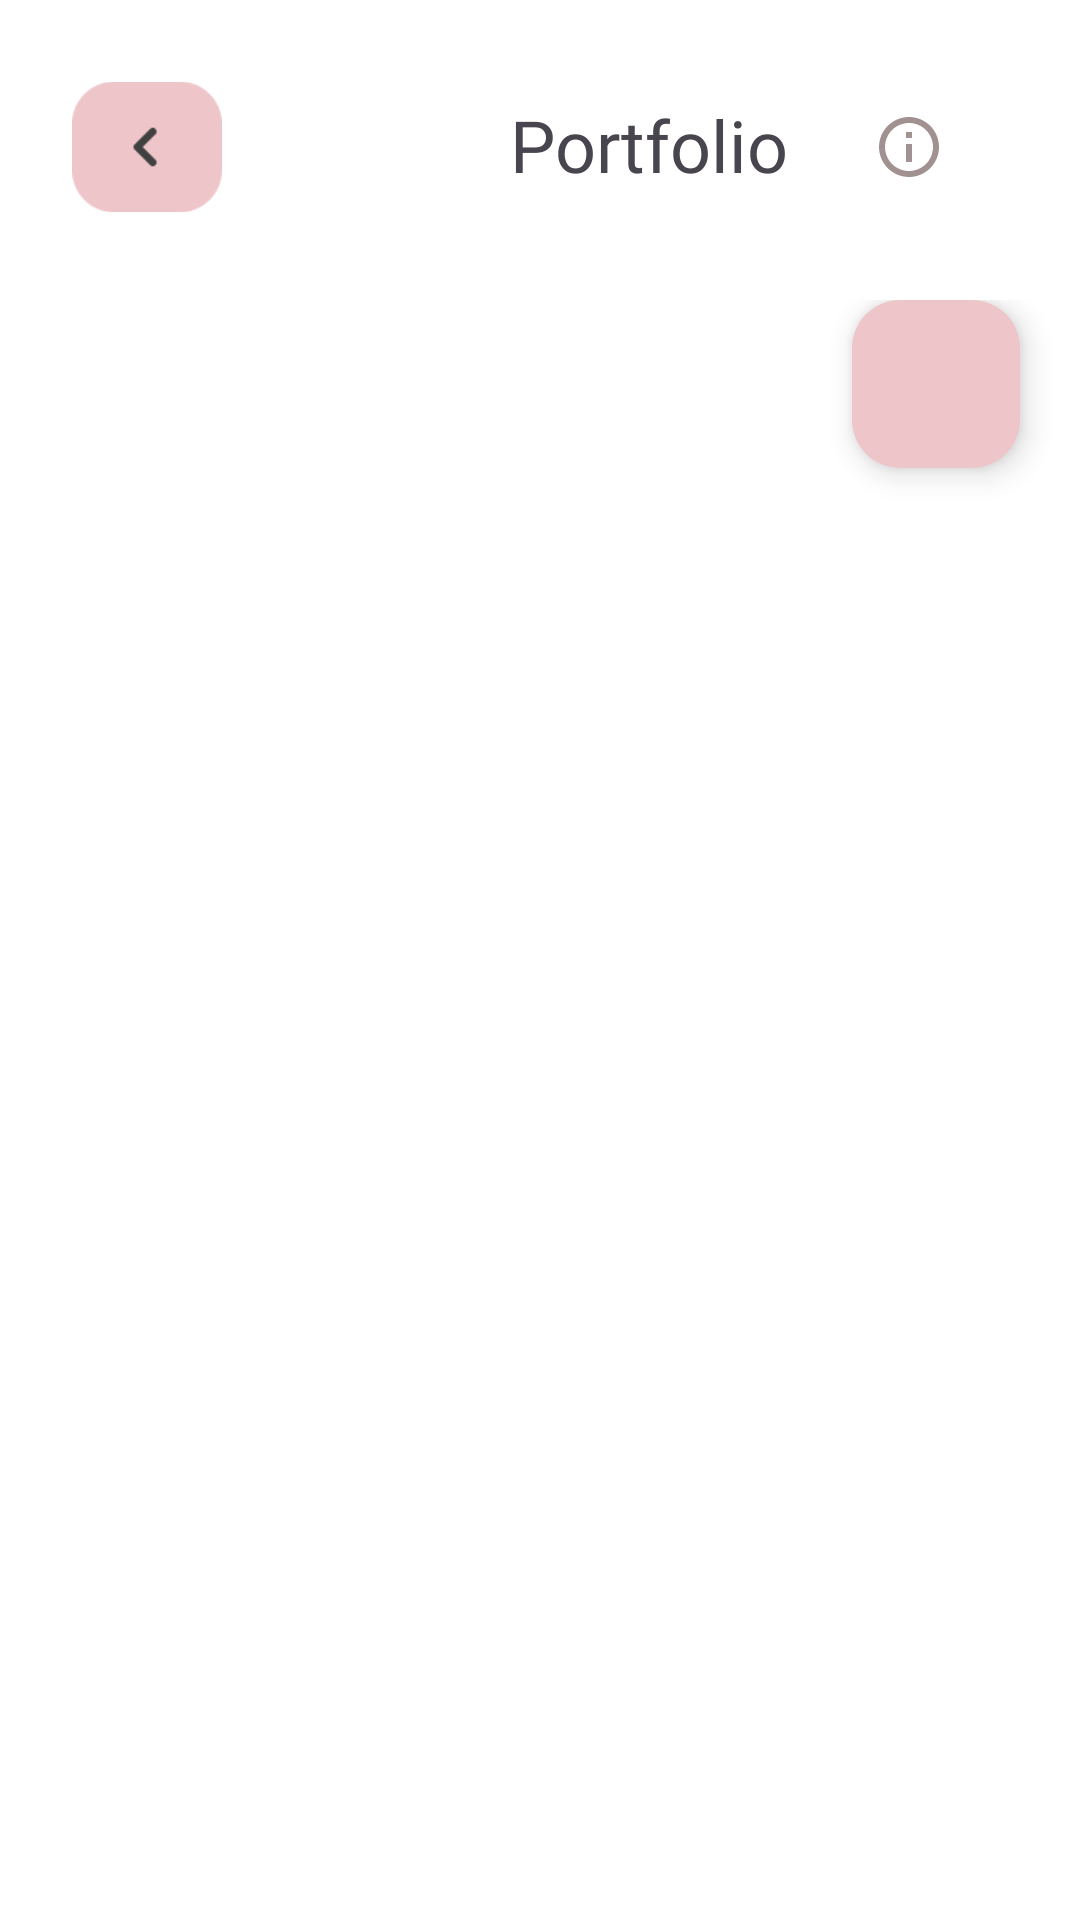

Point at icon controls on the screen. Image size 1080px x 1920px, points as (x=x, y=y).
Back Button: (x=147, y=147)
info: (x=909, y=147)
